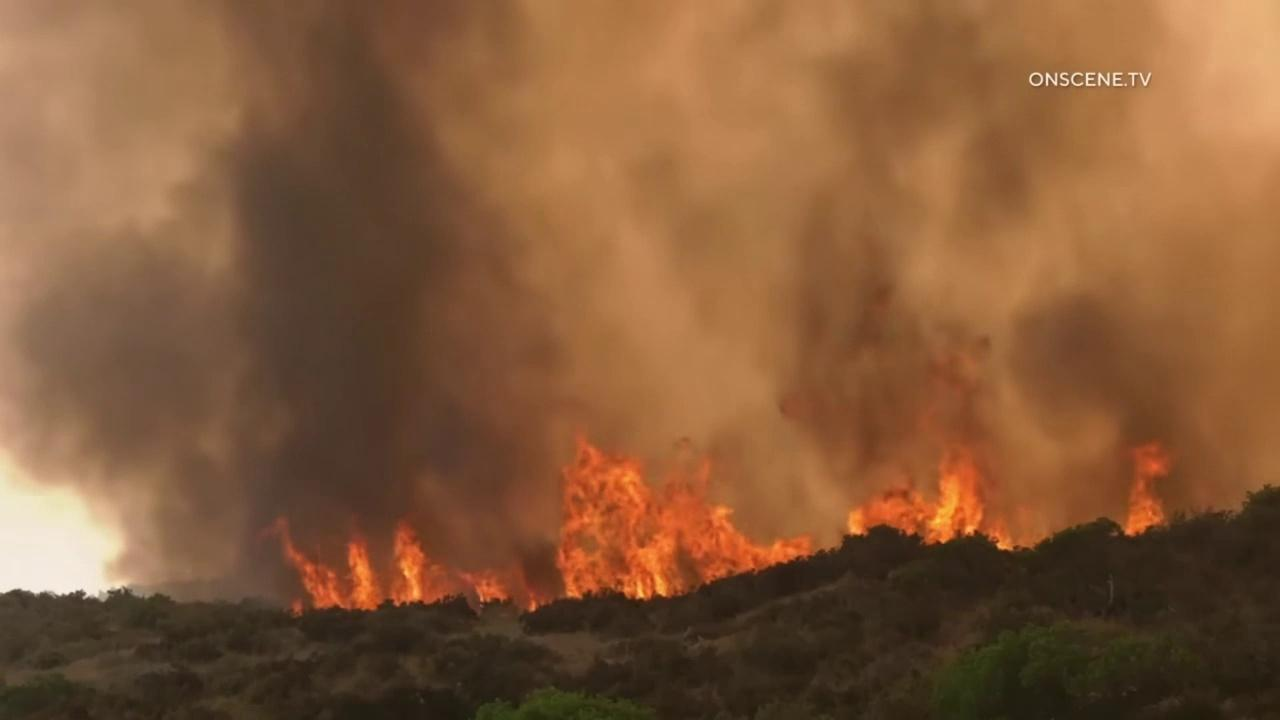fire: (555, 428, 814, 603), (257, 511, 554, 617), (844, 439, 1015, 553), (1122, 442, 1175, 539)
smoke: (0, 0, 1280, 604)
